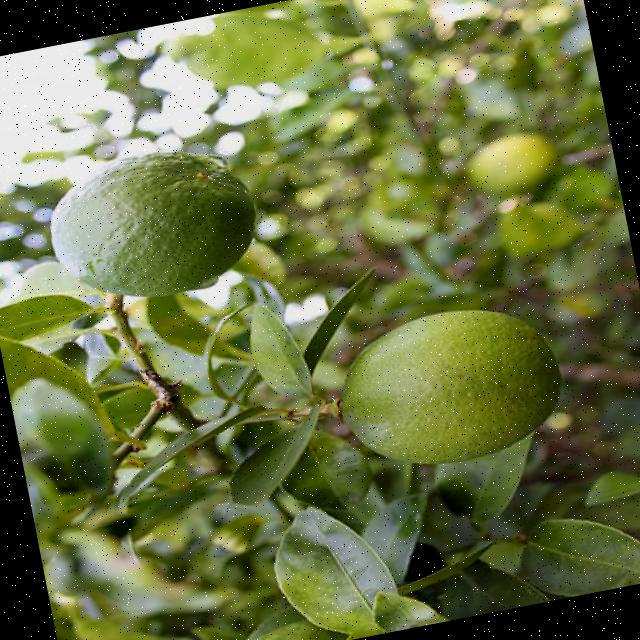Unripe: (318, 296, 571, 484), (36, 134, 268, 315)
